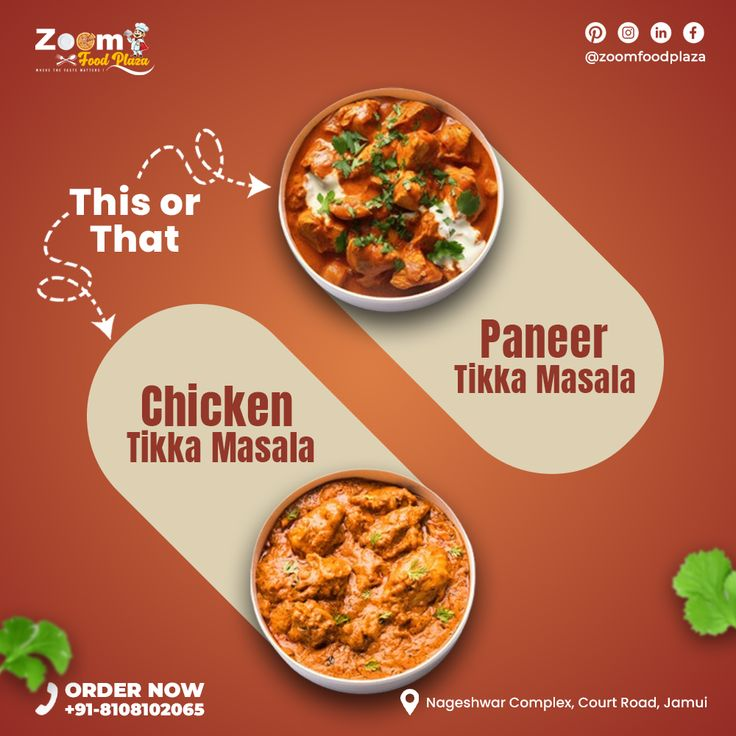CTA: (63, 675, 209, 698)
Headline: (117, 320, 654, 467)
Product: (249, 475, 482, 683), (276, 83, 501, 296)
logo: (26, 16, 162, 77)
